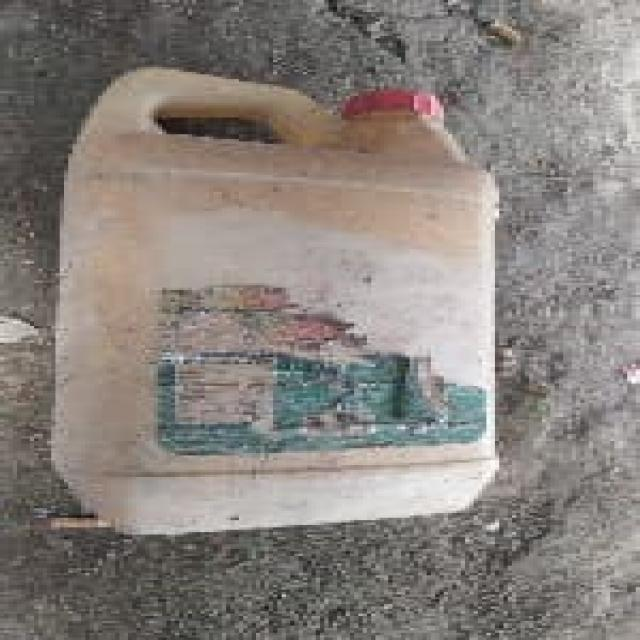HDPE Plastic: (42, 58, 506, 540)
